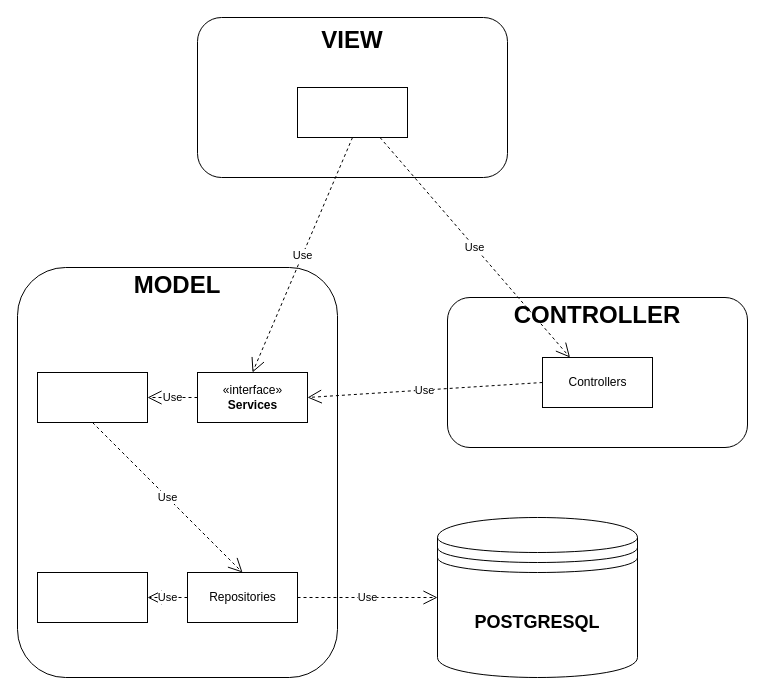
Image size: 765x695. Some labels were removed from this diagram. The centre of each missing label's shape, as x and y in pixels:
Models: the point at 92,597
ServicesImpl: the point at 92,397
UserInterface: the point at 352,112
